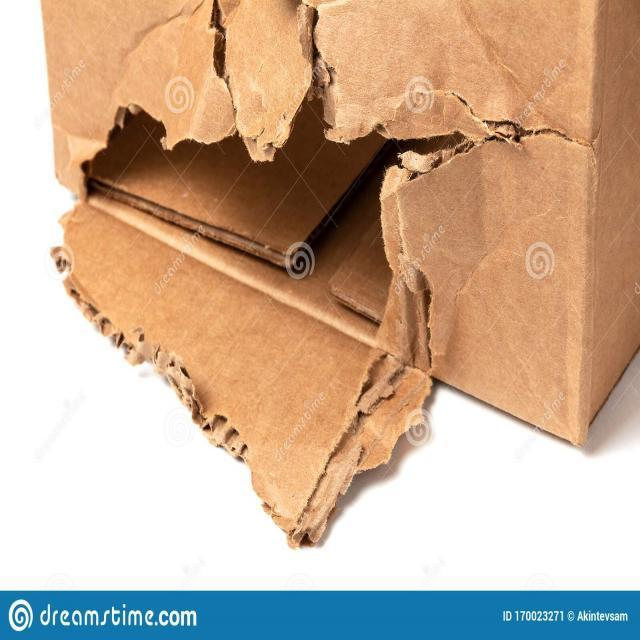damaged: (79, 102, 478, 364)
